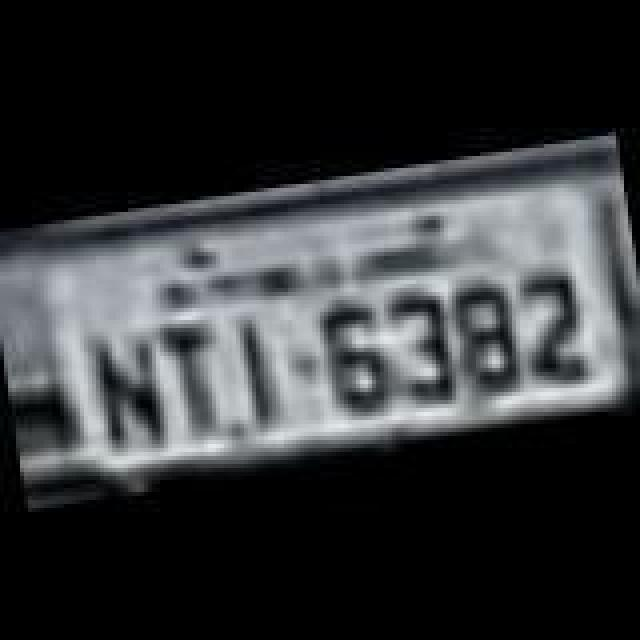1: (230, 314, 282, 430)
2: (514, 266, 590, 390)
3: (380, 280, 460, 408)
6: (318, 292, 394, 412)
8: (450, 276, 526, 396)
N: (90, 328, 174, 456)
T: (154, 318, 230, 442)
